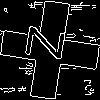Z: (25, 25, 75, 63)
